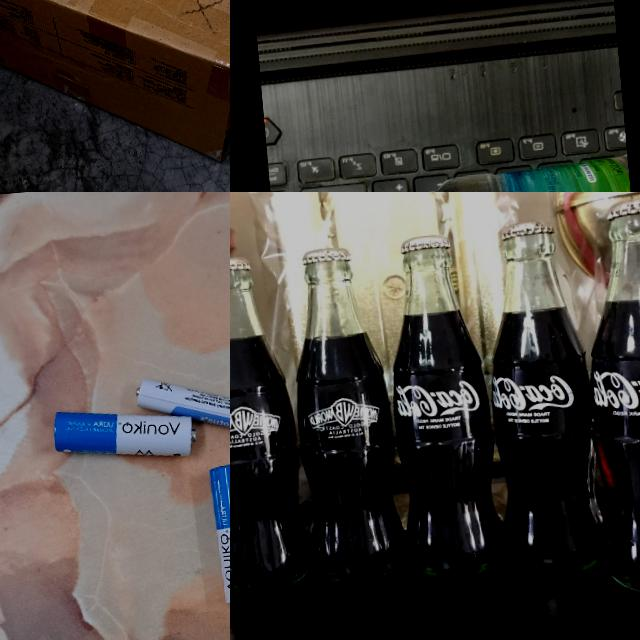bateria: (51, 399, 197, 466), (132, 370, 230, 441), (209, 461, 230, 609)
garrafa de vidro: (472, 215, 617, 582), (373, 230, 508, 584), (278, 240, 409, 588), (230, 250, 319, 600), (568, 192, 640, 603)
papelão: (0, 0, 230, 184)
